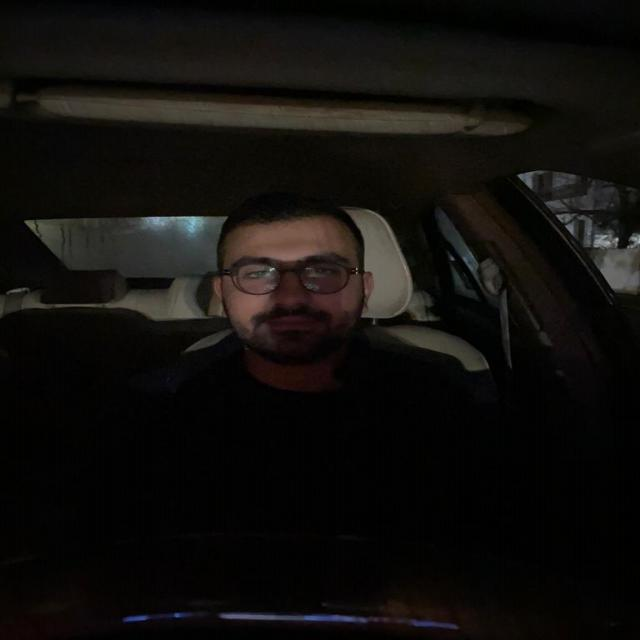person: (209, 216, 377, 358)
